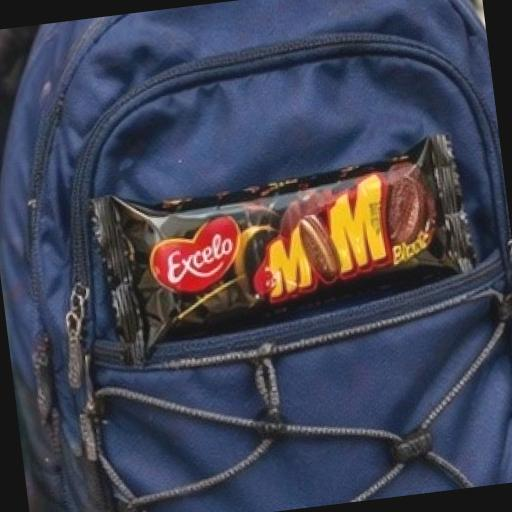MOMO: (50, 94, 512, 396)
